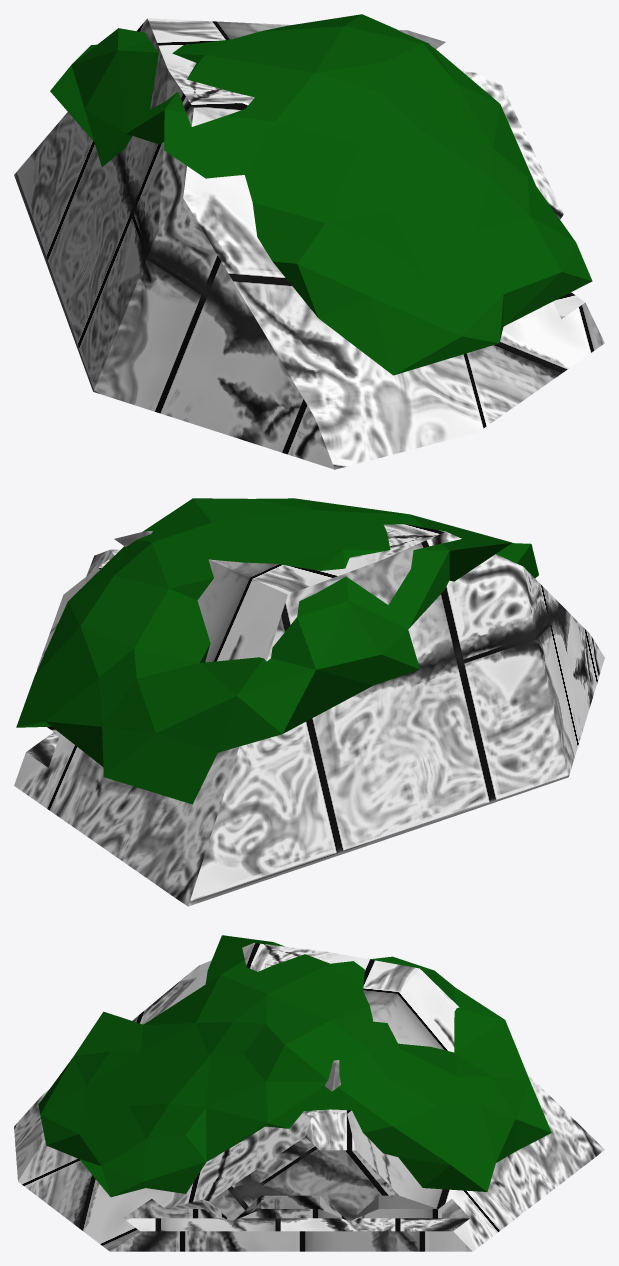
File: building_frag01.fbx
3 views of the same model, one above another, from view 1: azimuth 30°, elevation 25°; view 2: azimuth 150°, elevation 25°; view 3: azimuth 270°, elevation 25° (orthographic). The views are drawn at different scales.
Visible parts, largest first — view 1: building_frag01; view 2: building_frag01; view 3: building_frag01.
Boxes of the visible parts, x1=… form: building_frag01: x1=14, y1=14, x2=604, y2=469; building_frag01: x1=14, y1=498, x2=604, y2=906; building_frag01: x1=14, y1=935, x2=604, y2=1251.
Bounding box in the file's own units: 357 × 184 × 517.
